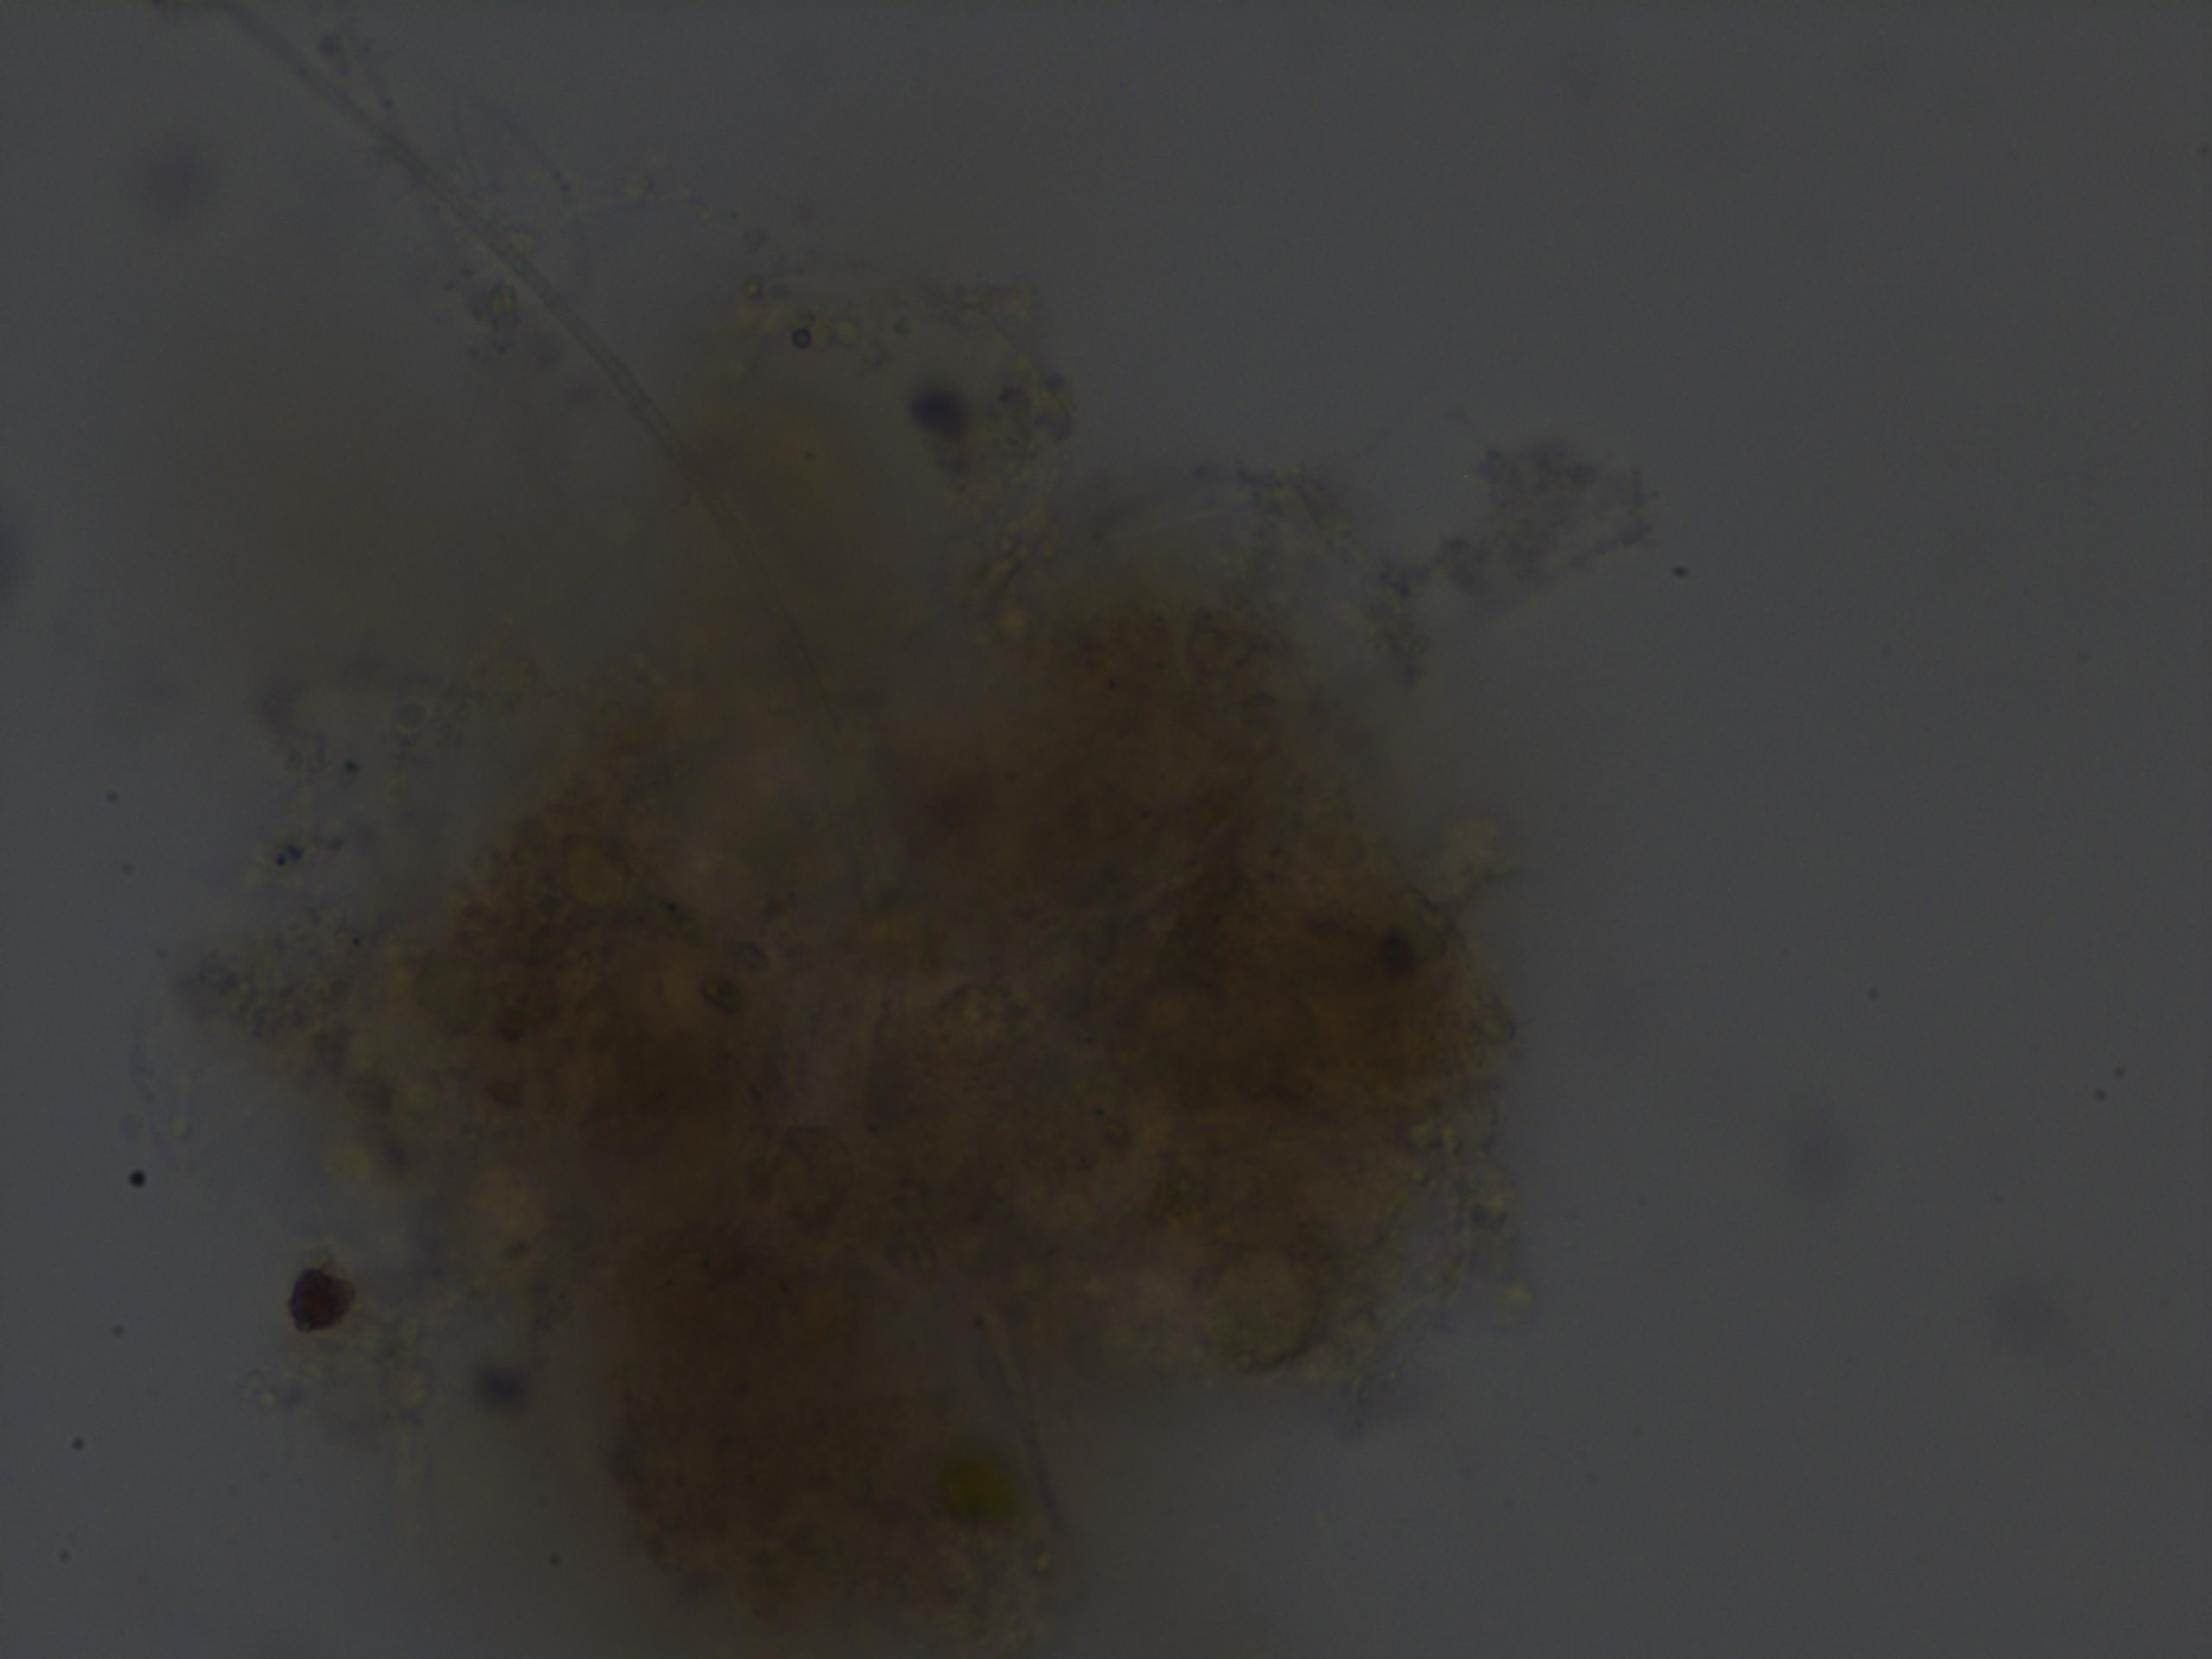filament: (179, 0, 789, 606)
